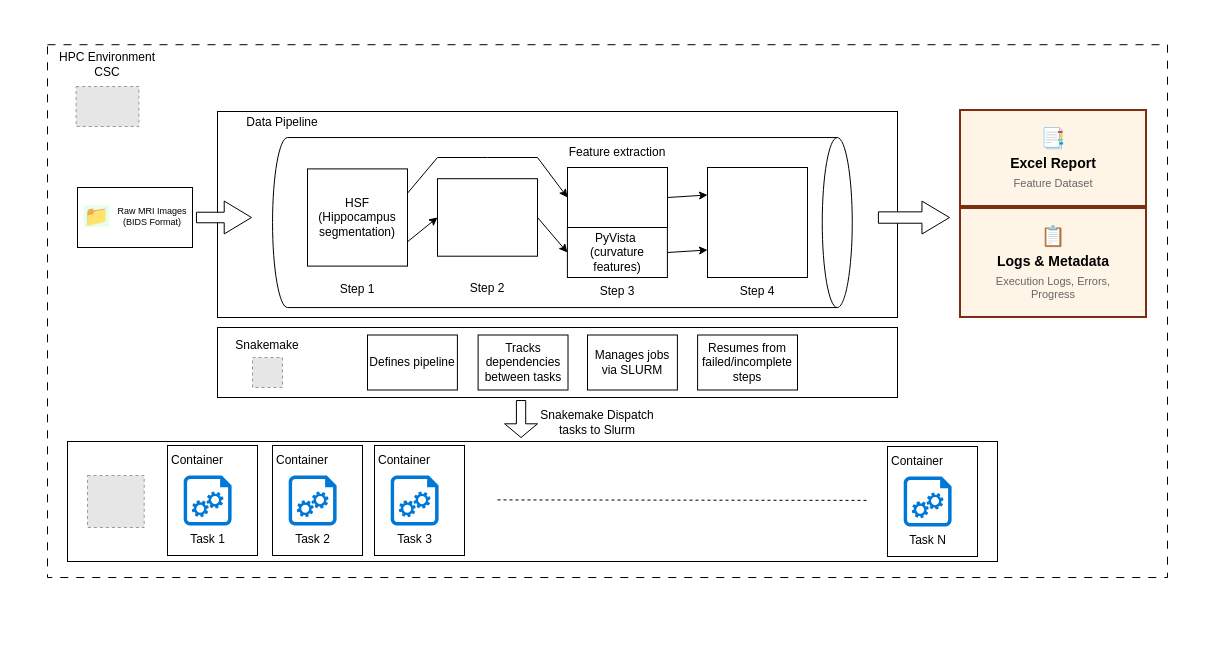
Image size: 1214x654. Some labels were removed from this diagram. Grey dashed boxes stand in for pictures. The shapes that lost their labels are listed below. From the top down, each one's box as (x1, y1, x2, y2) in pixels, then its label:
(436, 178, 538, 256): SPHARM-PDM (create 3D surface meshes)
(566, 166, 668, 228): PyRadiomics (volume features)
(706, 166, 808, 278): Data aggregation
